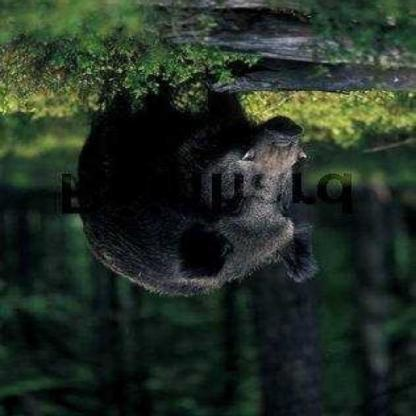boar: (49, 71, 322, 311)
